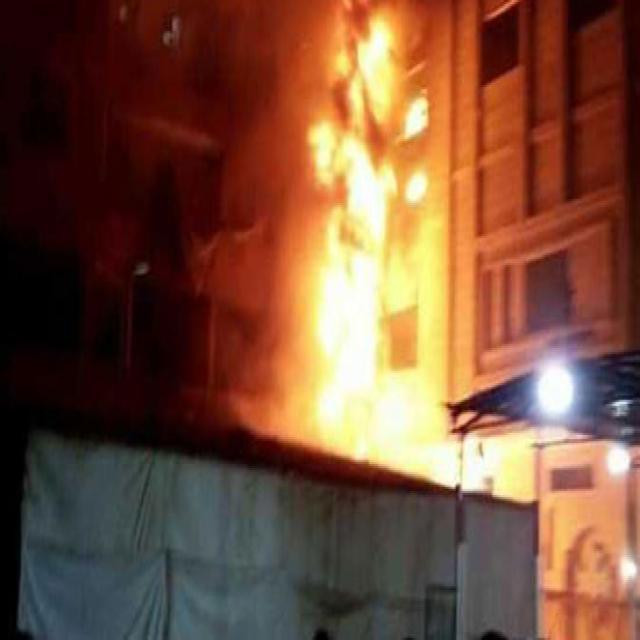Fire: (304, 0, 436, 459)
Smoke: (124, 0, 304, 441)
